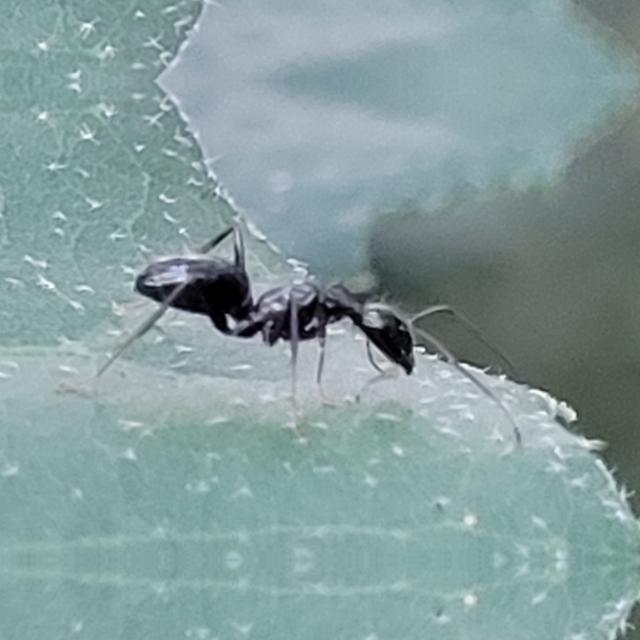Camponotus: (92, 210, 488, 398)
